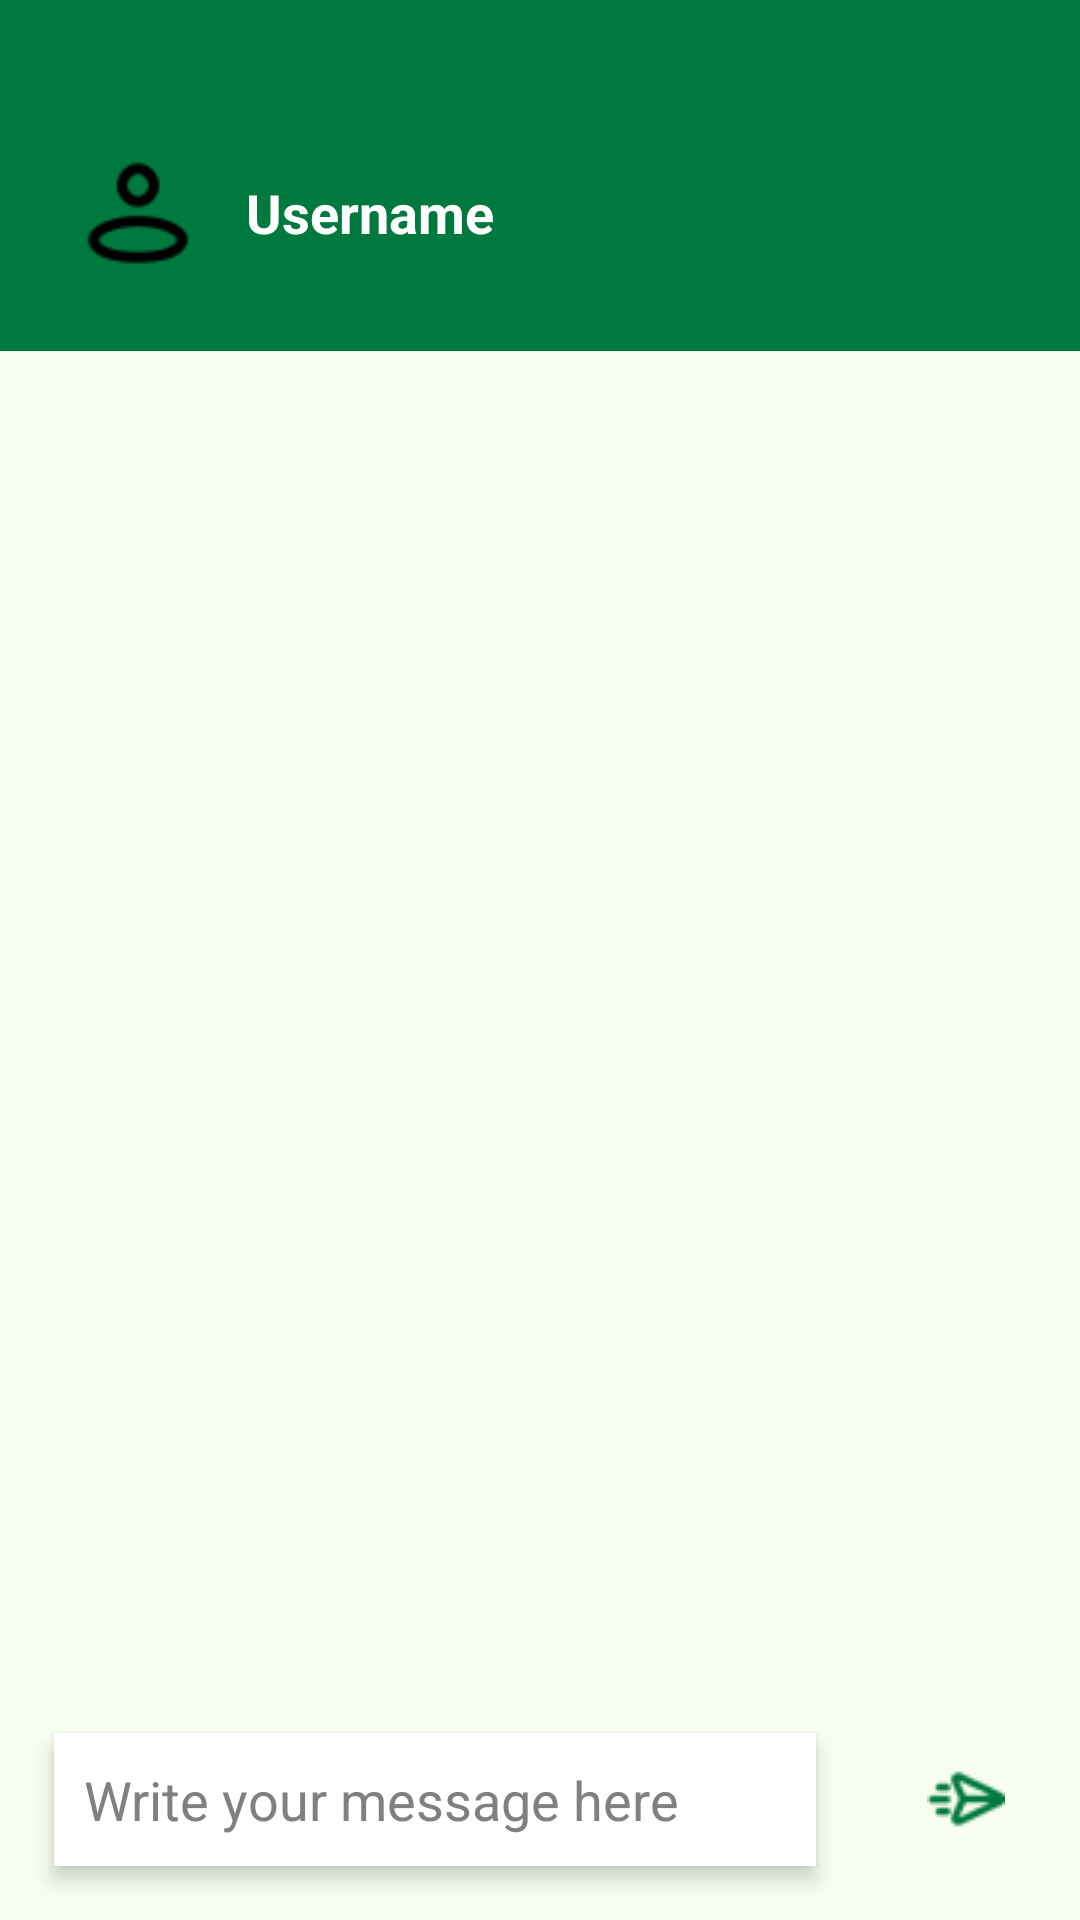

Where icons sit on this 1080*1920 app screen, as (x1, y1, x2, y2):
profile: (87, 162, 189, 264)
send message: (927, 1771, 1005, 1827)
